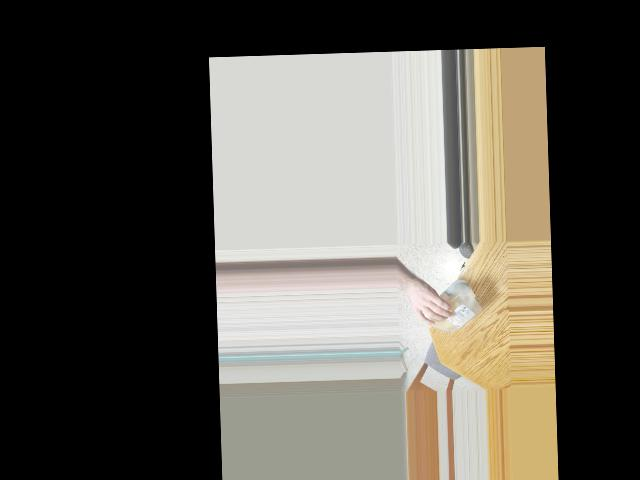cheese: (416, 281, 483, 336)
